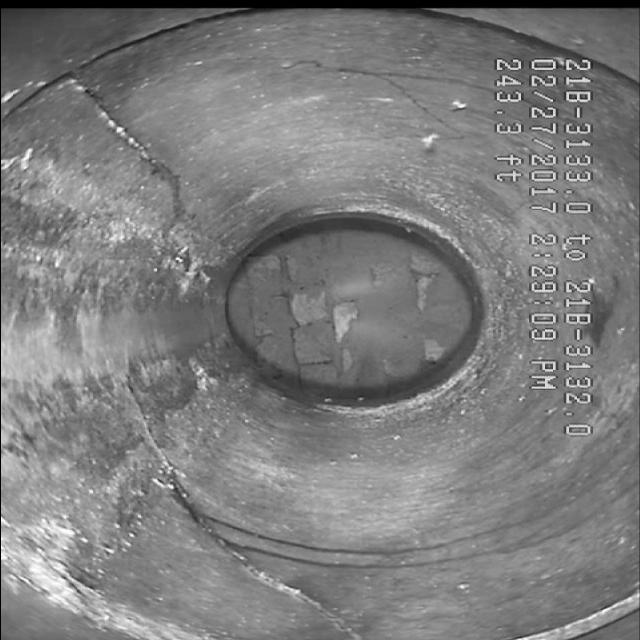Fracture: (124, 428, 343, 639), (56, 81, 228, 217), (281, 56, 469, 128)
